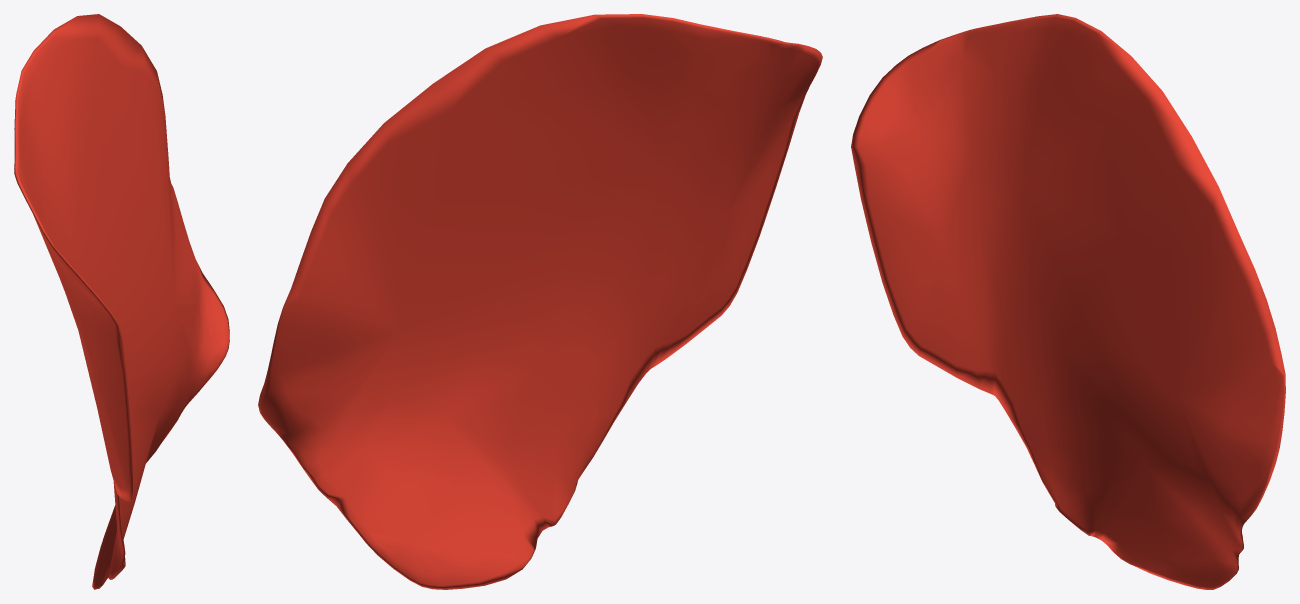
Rendered from Gluteus_minimus_muscle-Iliac_insertion.r_Generated_Mesh_From_X3.glb.
The picture shows the model from 3 angles, left to right: view 1: azimuth 30°, elevation 25°; view 2: azimuth 150°, elevation 25°; view 3: azimuth 270°, elevation 25°; orthographic projection. The views are drawn at different scales.
Parts seen in each view (by area): view 1: Gluteus_minimus_muscle-Iliac_insertion.r_Generated_Mesh_From; view 2: Gluteus_minimus_muscle-Iliac_insertion.r_Generated_Mesh_From; view 3: Gluteus_minimus_muscle-Iliac_insertion.r_Generated_Mesh_From.
Part boxes in pixels (x1=…): Gluteus_minimus_muscle-Iliac_insertion.r_Generated_Mesh_From: x1=14, y1=14, x2=229, y2=589; Gluteus_minimus_muscle-Iliac_insertion.r_Generated_Mesh_From: x1=258, y1=14, x2=822, y2=589; Gluteus_minimus_muscle-Iliac_insertion.r_Generated_Mesh_From: x1=851, y1=14, x2=1285, y2=589.
Bounding box in the file's own units: 0.0531 × 0.078 × 0.0596.
